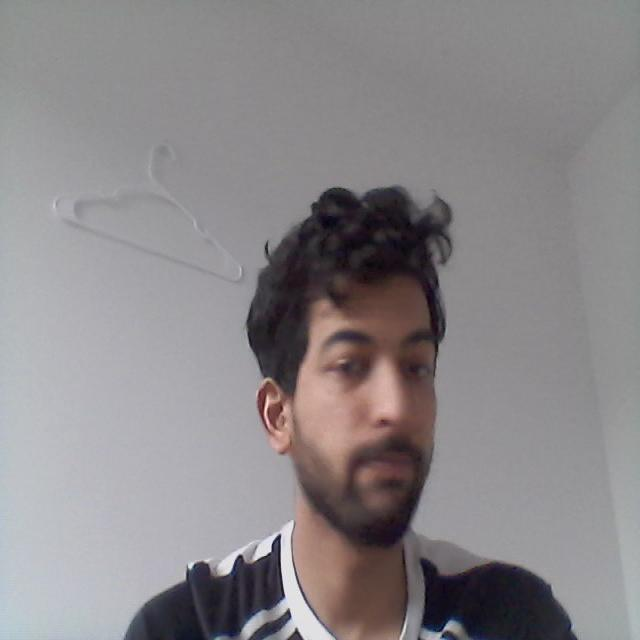nocap: (225, 168, 472, 409)
